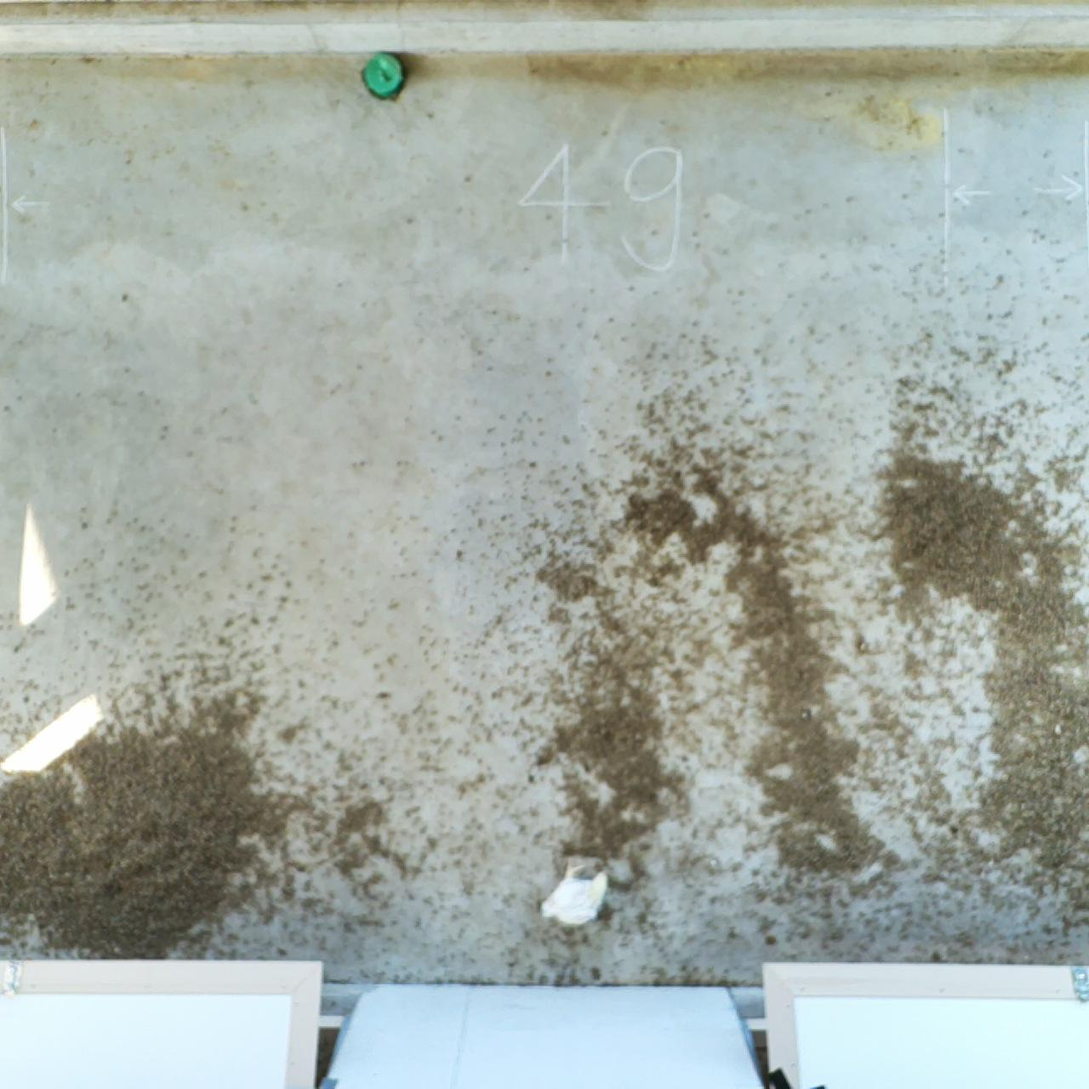chicken: (536, 854, 611, 932)
